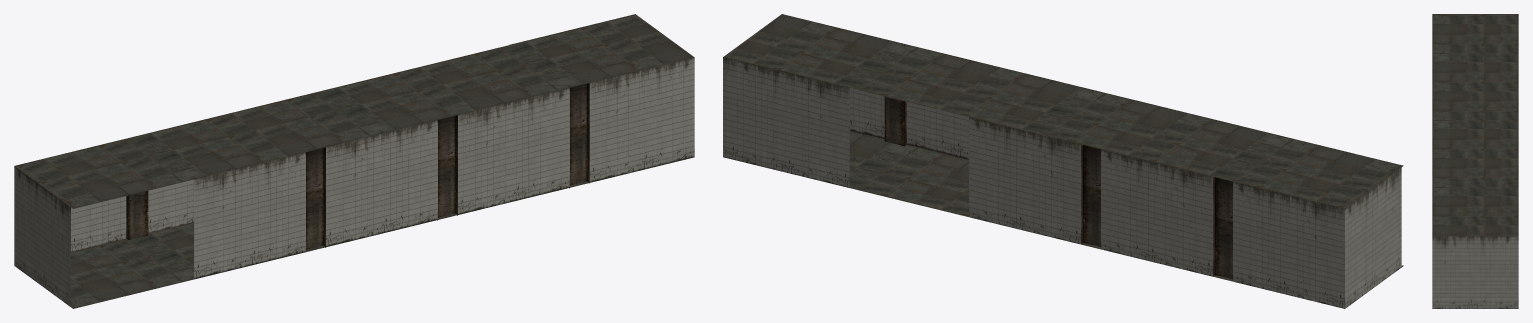
The model's file is MidUpTunnelA.fbx.
3 views of the same model, side by side, from view 1: azimuth 30°, elevation 25°; view 2: azimuth 150°, elevation 25°; view 3: azimuth 270°, elevation 25° (orthographic). The views are drawn at different scales.
Parts seen in each view (by area): view 1: MidUpTunnelA; view 2: MidUpTunnelA; view 3: MidUpTunnelA.
Part boxes in pixels (bbox=[...]): MidUpTunnelA: bbox=[14, 14, 694, 308]; MidUpTunnelA: bbox=[723, 14, 1403, 308]; MidUpTunnelA: bbox=[1432, 14, 1518, 308].
Size of the model in its own units: 2366 by 368 by 388.
